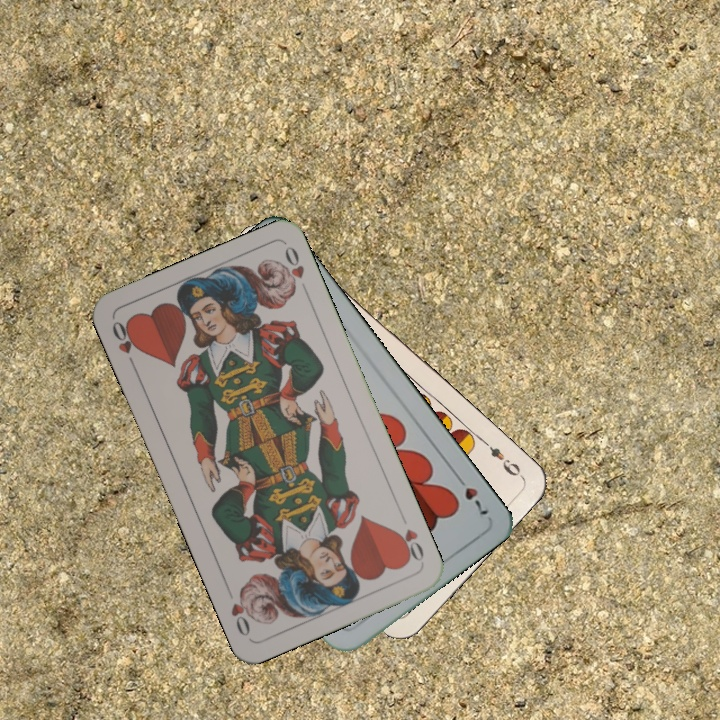E9: (478, 435, 525, 481)
H7: (450, 469, 492, 518)
HO: (108, 317, 142, 372), (391, 524, 427, 564)
